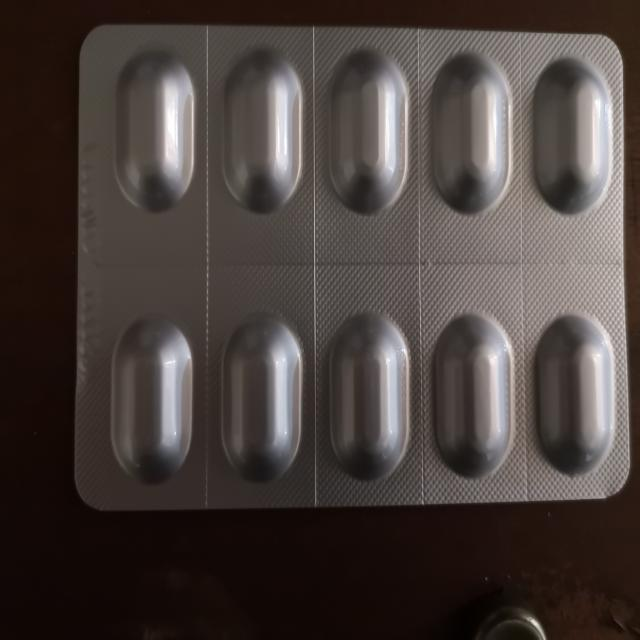Pill: (320, 307, 416, 487), (104, 311, 198, 487), (322, 40, 413, 221), (217, 310, 307, 490), (218, 44, 309, 219), (429, 308, 519, 484), (112, 43, 201, 220), (526, 48, 615, 222), (530, 308, 618, 480), (427, 46, 513, 220)
